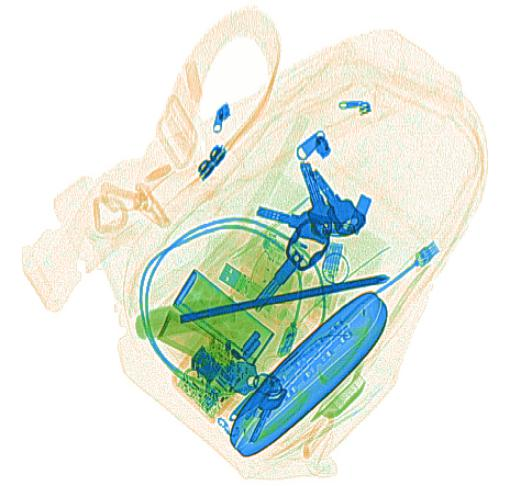USBFlashDisk: (216, 263, 279, 316), (310, 240, 347, 317)
